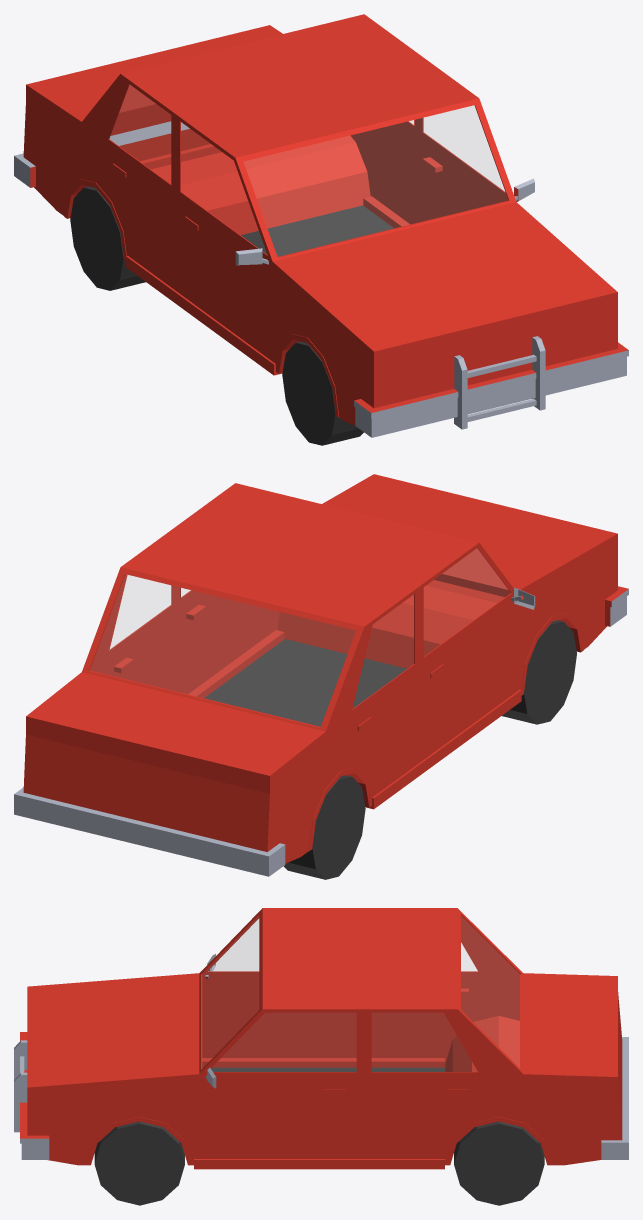
File: Car.fbx
3 renders of one model, top to bottom at view 1: azimuth 30°, elevation 25°; view 2: azimuth 150°, elevation 25°; view 3: azimuth 270°, elevation 25°, orthographic. The views are drawn at different scales.
Parts seen in each view (by area): view 1: Car; view 2: Car; view 3: Car.
Part boxes in pixels (left/top/right/bottom): Car: left=14, top=14, right=628, bottom=445; Car: left=14, top=474, right=628, bottom=879; Car: left=14, top=908, right=628, bottom=1205.
Bounding box in the file's own units: 306 × 227 × 643.
